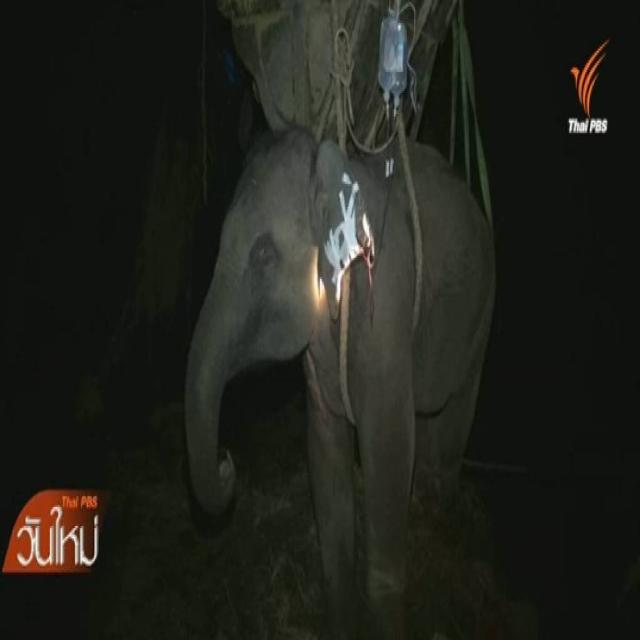Elephant: (144, 117, 525, 640)
